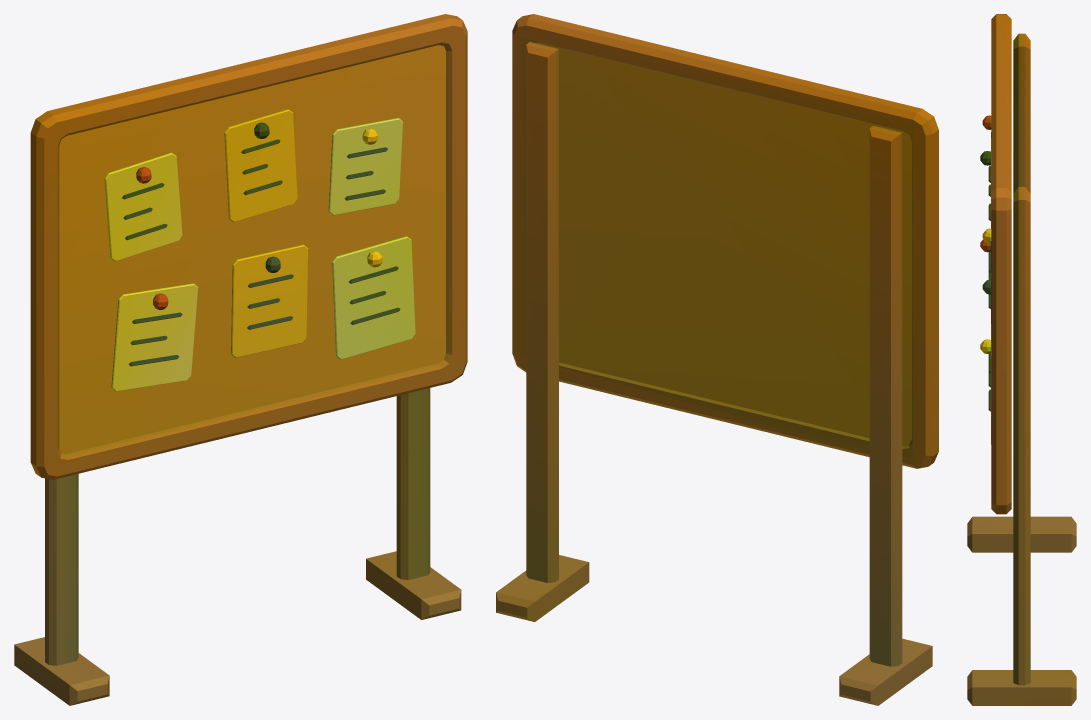
Rendered from Prop_NoticeBoard.fbx.
The picture shows the model from 3 angles, left to right: view 1: azimuth 30°, elevation 25°; view 2: azimuth 150°, elevation 25°; view 3: azimuth 270°, elevation 25°; orthographic projection. The views are drawn at different scales.
Visible parts, largest first — view 1: Prop_NoticeBoard; view 2: Prop_NoticeBoard; view 3: Prop_NoticeBoard.
Boxes of the visible parts, x1,y1,x2,y2 form: Prop_NoticeBoard: (14, 14, 467, 705); Prop_NoticeBoard: (496, 14, 938, 705); Prop_NoticeBoard: (967, 14, 1076, 705).
Bounding box in the file's own units: 1.3 × 1.67 × 0.32.
